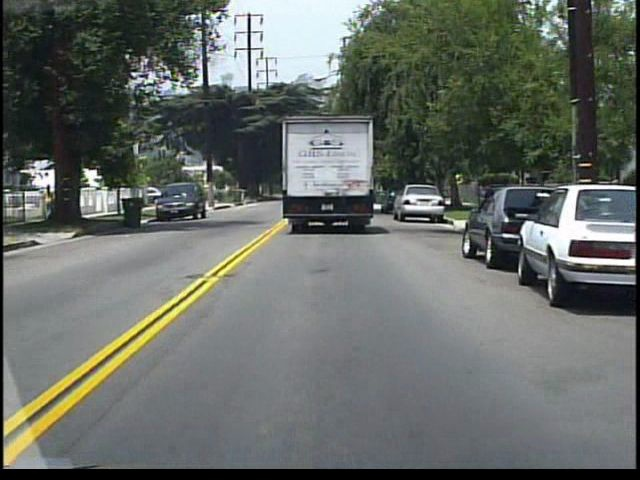person: (44, 181, 58, 219)
